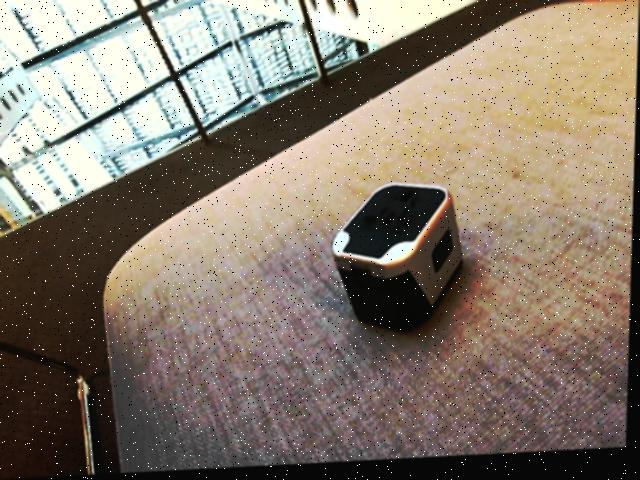adapter: (331, 183, 466, 340)
